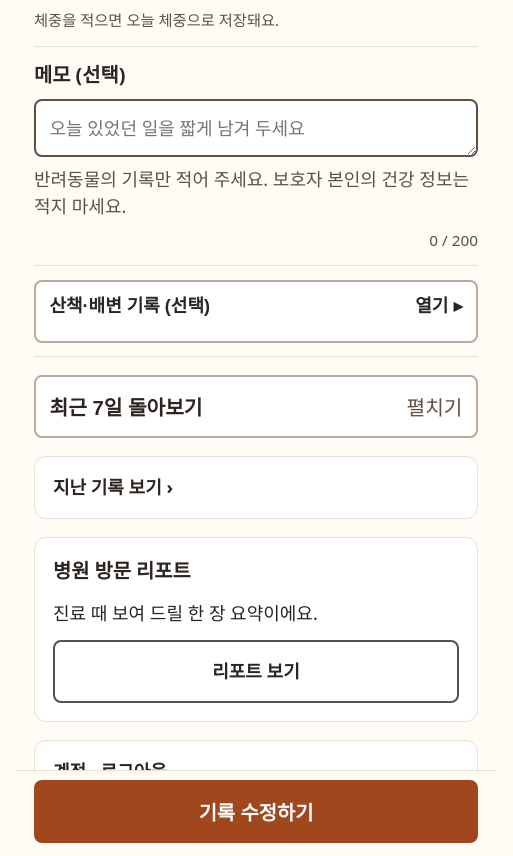
Test: 오늘 화면 — 최근 7일 돌아보기 카드 › 펼치면 history 를 파라미터 없이 1회 읽고 숫자를 보인다
The image size is (513, 856).
(page scrolled)
Click the button "최근 7일 돌아보기 펼치기" at (126, 408), box [34,375,478,438]
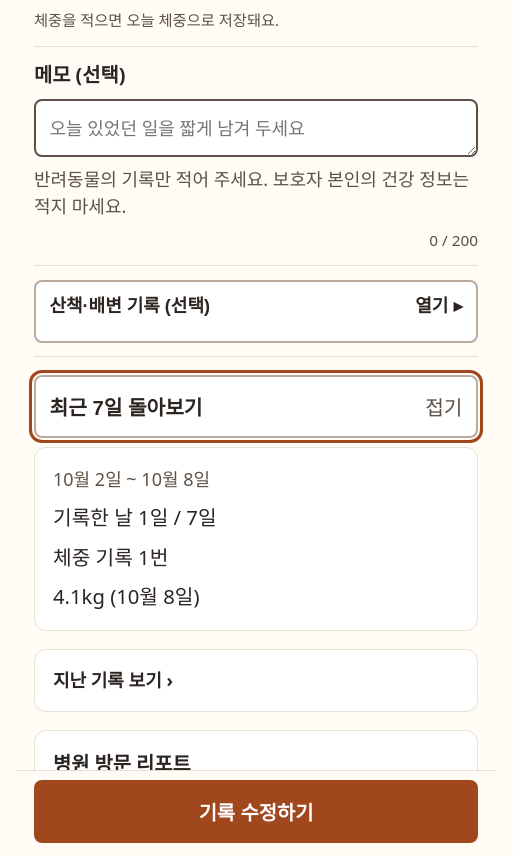
Expected: the text "기록한 날 1일 / 7일" is shown, [53,503,216,531]
